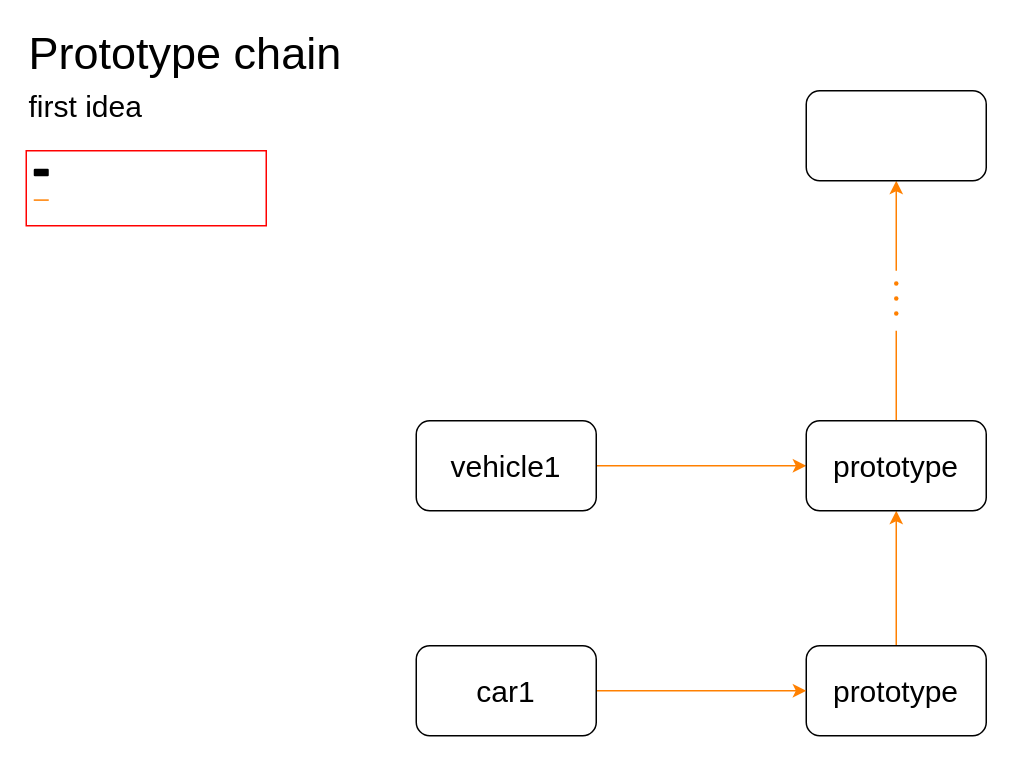
The diagram is 1013 pixels wide and 762 high, and some of its shapes have lost their labels. Each missing label, with the centre of its shape:
"null" goes at [895,135].
"object via [[prototype]] property" goes at [145,187].
